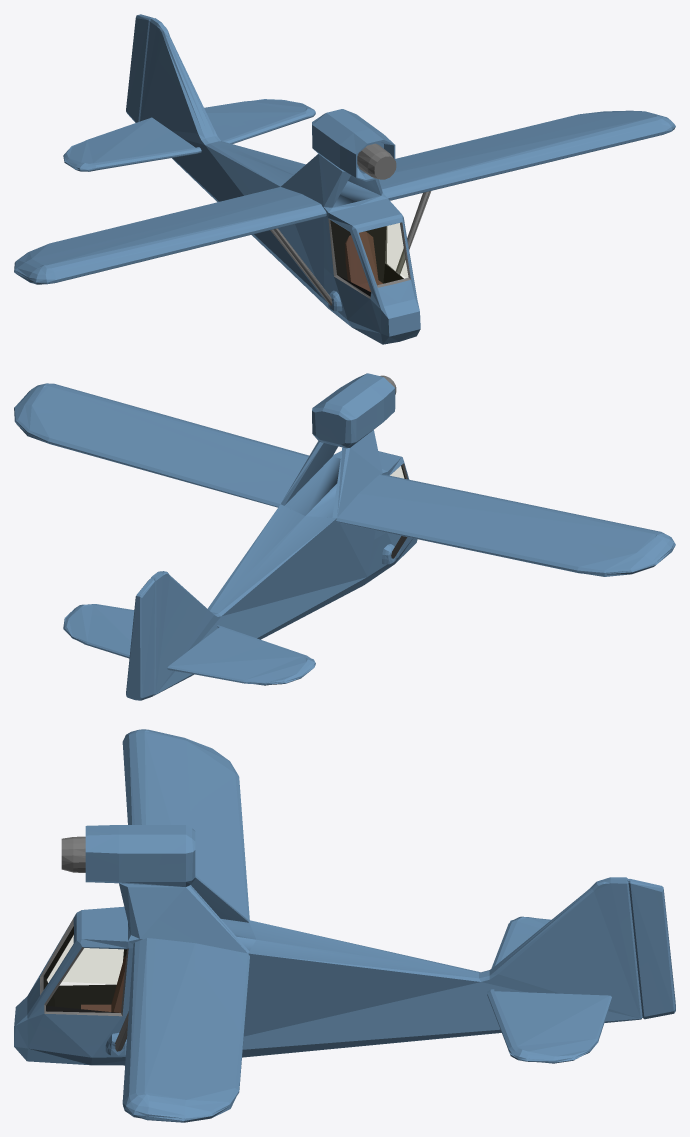
File: aircraft_6_damage.glb
3 renders of one model, top to bottom at view 1: azimuth 30°, elevation 25°; view 2: azimuth 150°, elevation 25°; view 3: azimuth 270°, elevation 25°, orthographic. The views are drawn at different scales.
Visible parts, largest first — view 1: Airframe, TailBreakaway, OuterWingRight, OuterWingLeft, VerticalTip, HorizontalTipRight, HorizontalTipLeft, tripo_node_68e8f659.001; view 2: Airframe, TailBreakaway, OuterWingRight, OuterWingLeft, HorizontalTipRight, VerticalTip, HorizontalTipLeft; view 3: Airframe, TailBreakaway, OuterWingLeft, OuterWingRight, VerticalTip, HorizontalTipLeft, HorizontalTipRight, tripo_node_68e8f659.001.
Boxes of the visible parts, x1=… form: Airframe: x1=112, y1=109, x2=555, y2=344; TailBreakaway: x1=108, y1=58, x2=259, y2=202; OuterWingRight: x1=14, y1=228, x2=161, y2=284; OuterWingLeft: x1=514, y1=110, x2=675, y2=160; VerticalTip: x1=131, y1=14, x2=198, y2=101; HorizontalTipRight: x1=63, y1=133, x2=154, y2=171; HorizontalTipLeft: x1=219, y1=99, x2=315, y2=134; tripo_node_68e8f659.001: x1=345, y1=231, x2=382, y2=292; Airframe: x1=112, y1=373, x2=552, y2=639; TailBreakaway: x1=107, y1=591, x2=256, y2=700; OuterWingRight: x1=510, y1=509, x2=675, y2=576; OuterWingLeft: x1=14, y1=383, x2=158, y2=461; HorizontalTipRight: x1=219, y1=638, x2=315, y2=685; VerticalTip: x1=131, y1=571, x2=198, y2=642; HorizontalTipLeft: x1=63, y1=604, x2=134, y2=651; Airframe: x1=14, y1=795, x2=434, y2=1065; TailBreakaway: x1=435, y1=938, x2=675, y2=1039; OuterWingLeft: x1=122, y1=1033, x2=242, y2=1122; OuterWingRight: x1=122, y1=729, x2=242, y2=816; VerticalTip: x1=527, y1=877, x2=668, y2=949; HorizontalTipLeft: x1=496, y1=1015, x2=602, y2=1063; HorizontalTipRight: x1=496, y1=916, x2=551, y2=954; tripo_node_68e8f659.001: x1=43, y1=956, x2=126, y2=1012.
Size of the model in its own units: 11.95 by 3.38 by 8.76.
